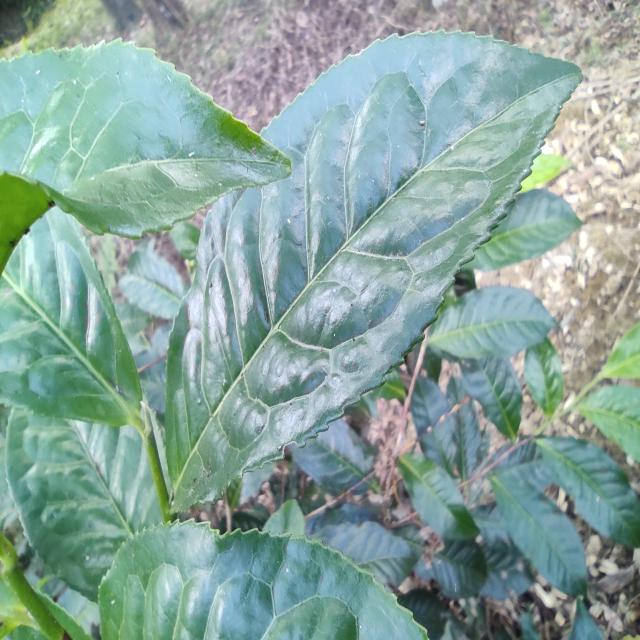Category D(7+ days, Not for Tea): (155, 8, 598, 524)
